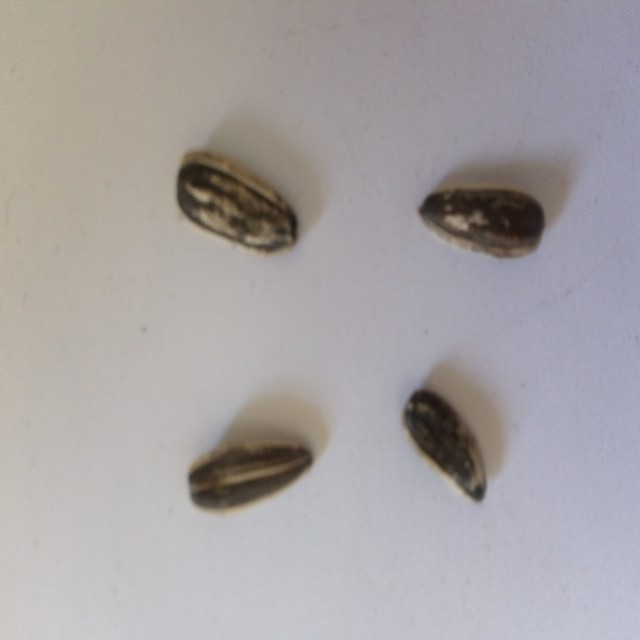girasol: (171, 147, 305, 260), (395, 382, 490, 509), (179, 438, 320, 518), (414, 182, 546, 263)
